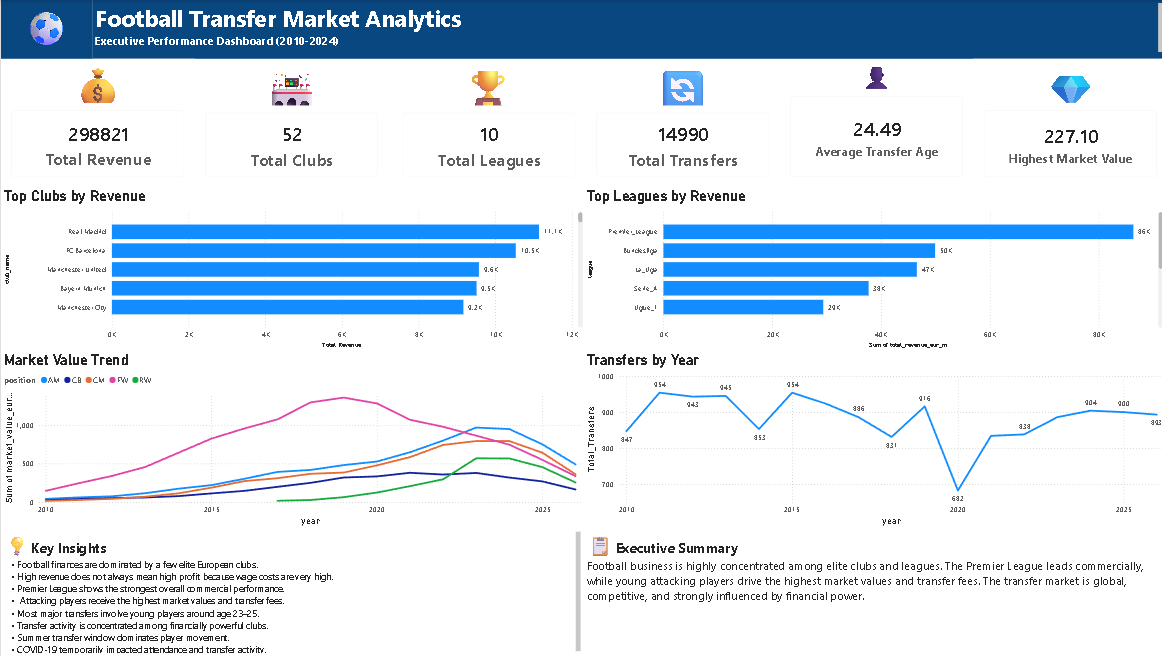

The page's visual inventory and layout, read from the dashboard file:
{"tool":"powerbi","page":{"name":"Executive Dashboard","canvas":[1280,1500],"ordinal":0},"visuals":[{"type":"textbox","box":[0,0,1278.9,91.7],"z":0},{"type":"cardVisual","fields":{"Data":["Sum(league_metrics.total_revenue_eur_m)"]},"box":[0,91.7,305.7,150.3],"z":1},{"type":"cardVisual","fields":{"Data":["transfers_history.Total_Transfers"]},"box":[305,91.7,335,150],"z":2},{"type":"cardVisual","fields":{"Data":["Count(club_financials.club_name)"]},"box":[639.4,91.7,328.6,147.8],"z":3},{"type":"cardVisual","fields":{"Data":["Count(league_metrics.league)"]},"box":[968.1,94.3,310.8,147.8],"z":4},{"type":"cardVisual","fields":{"Data":["Avg(transfers_history.age)"]},"box":[0,242,639.4,147.8],"z":5},{"type":"cardVisual","fields":{"Data":["Max(player_market_values.market_value_eur_m)"]},"box":[639.4,239.5,639.4,150.3],"z":6},{"type":"clusteredBarChart","title":"Top Revenue Clubs","fields":{"Y":["club_financials.Total Revenue"],"Category":["club_financials.club_name"]},"box":[0,389.8,1278.9,201.3],"z":7},{"type":"clusteredBarChart","title":"Revenue by League","fields":{"Category":["league_metrics.league"],"Y":["Sum(league_metrics.total_revenue_eur_m)"]},"box":[0,591,1278.9,196.2],"z":8},{"type":"lineChart","title":"Market Value Trend","fields":{"Y":["Sum(player_market_values.market_value_eur_m)"],"Category":["player_market_values.year"],"Series":["player_market_values.position"]},"box":[0,787.2,1278.9,293],"z":9},{"type":"lineChart","title":"Transfers by Year","fields":{"Category":["transfers_history.year"],"Y":["transfers_history.Total_Transfers"]},"box":[0,1080.2,1278.9,203.8],"z":10},{"type":"textbox","box":[0,1283.3,638.3,216.7],"z":11},{"type":"textbox","box":[638,1284,641,216],"z":12}]}

Visuals, with their boxes on the page's 1280x1500 design canvas (x1, y1, x2, y2). These are canvas units, not pixel positions in the 1162x656 screenshot, which may show the page scaled, cropped or inside an application window:
textbox: rect(0, 0, 1279, 92)
cardVisual - Sum(league_metrics.total_revenue_eur_m): rect(0, 92, 306, 242)
cardVisual - transfers_history.Total_Transfers: rect(305, 92, 640, 242)
cardVisual - Count(club_financials.club_name): rect(639, 92, 968, 240)
cardVisual - Count(league_metrics.league): rect(968, 94, 1279, 242)
cardVisual - Avg(transfers_history.age): rect(0, 242, 639, 390)
cardVisual - Max(player_market_values.market_value_eur_m): rect(639, 240, 1279, 390)
"Top Revenue Clubs" clusteredBarChart: rect(0, 390, 1279, 591)
"Revenue by League" clusteredBarChart: rect(0, 591, 1279, 787)
"Market Value Trend" lineChart: rect(0, 787, 1279, 1080)
"Transfers by Year" lineChart: rect(0, 1080, 1279, 1284)
textbox: rect(0, 1283, 638, 1500)
textbox: rect(638, 1284, 1279, 1500)
